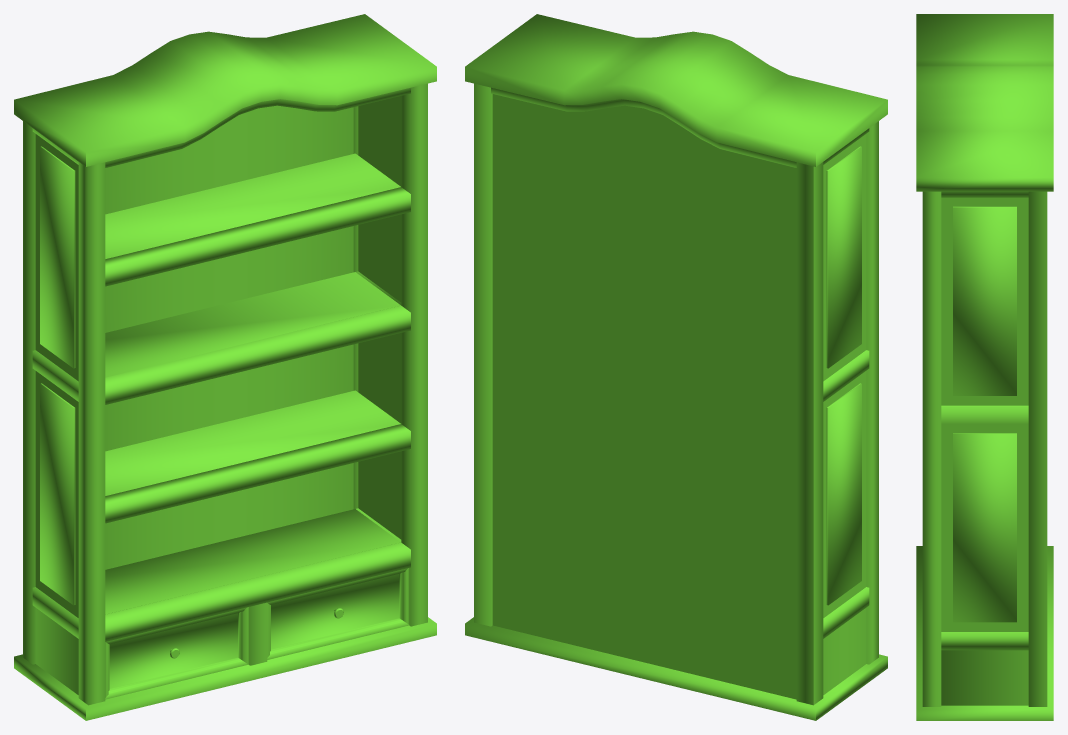
The model's file is kitaplık.fbx.
3 views of the same model, side by side, from view 1: azimuth 30°, elevation 25°; view 2: azimuth 150°, elevation 25°; view 3: azimuth 270°, elevation 25° (orthographic). The views are drawn at different scales.
Parts seen in each view (by area): view 1: Cube.003; view 2: Cube.003; view 3: Cube.003.
Boxes of the visible parts, <box> form: Cube.003: <box>14,14,436,720</box>; Cube.003: <box>465,14,887,720</box>; Cube.003: <box>916,14,1053,720</box>.
Size of the model in its own units: 114 by 184 by 40.56.
